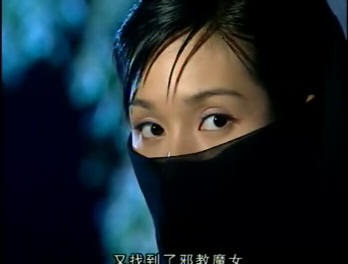face_mask: (130, 43, 275, 229)
